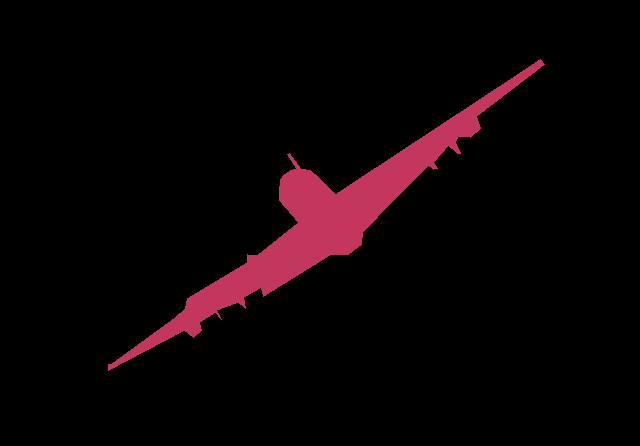Airplane: (108, 59, 544, 370)
